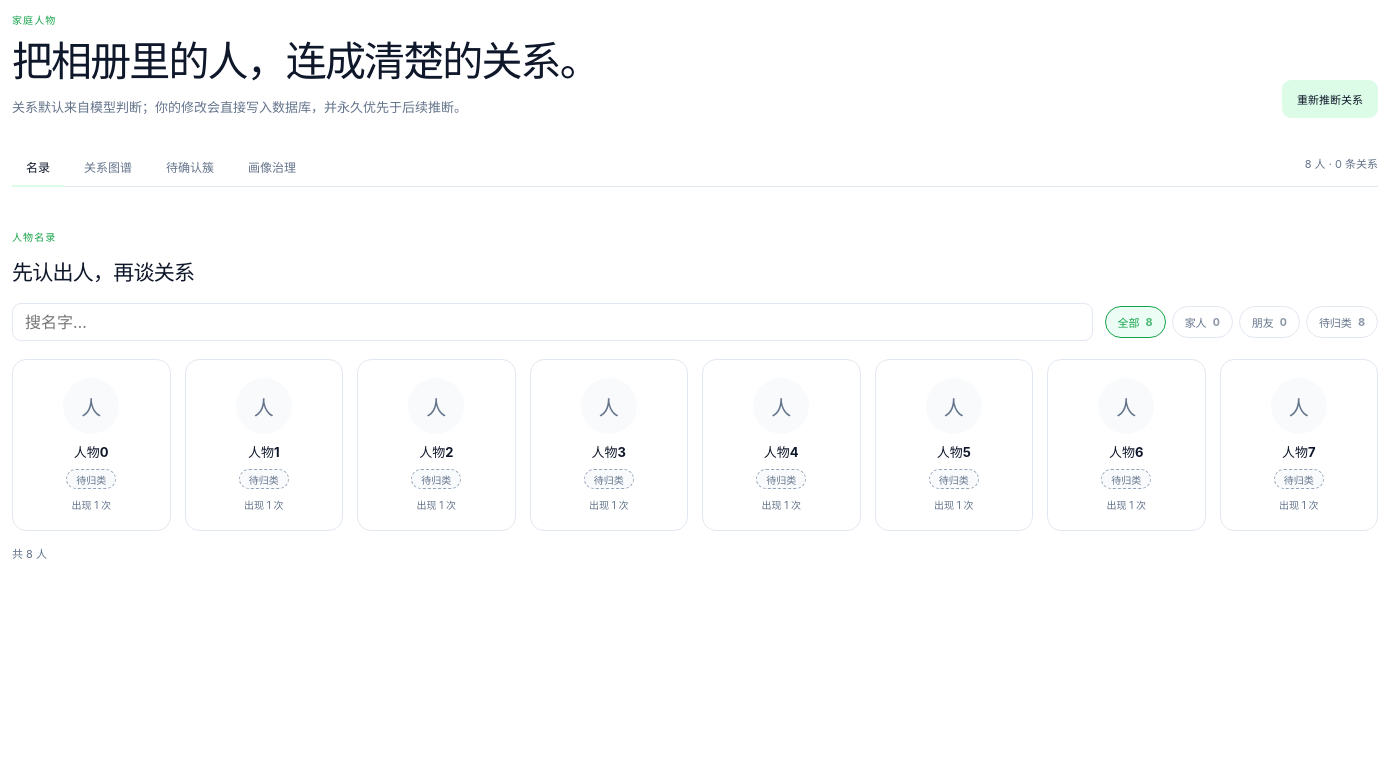
Test case: /people 名人录（F7 §0 真实形状） › 点一张卡走 ?person= 打开详情侧栏（不加路由）
The width and height of the screenshot is (1390, 780).
Click the button "人 人物0 待归类 出现 1 次": (91, 445) [12, 359, 170, 531]
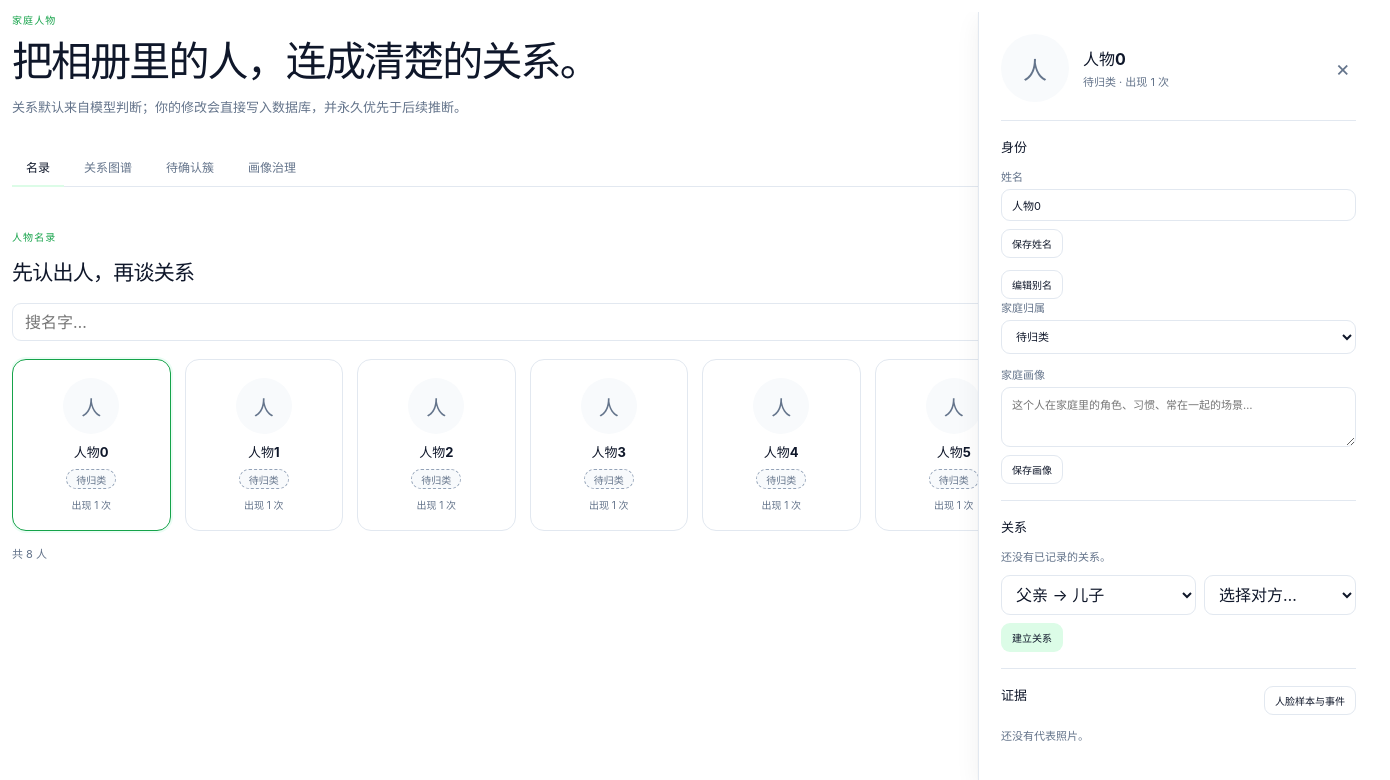
Result: the element named "人物0 的详情" is shown at [978, 12, 1378, 779]
